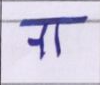aa_matra: (56, 23, 60, 55)
